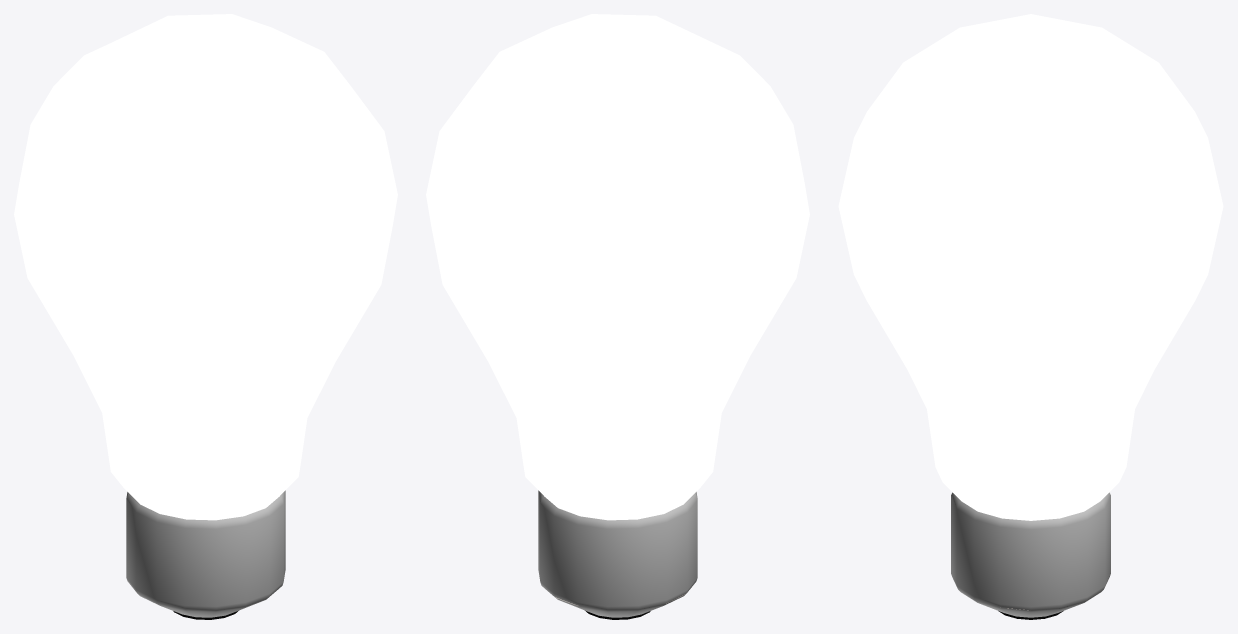
File: lowPolyLightbulb.glb
3 views of the same model, side by side, from view 1: azimuth 30°, elevation 25°; view 2: azimuth 150°, elevation 25°; view 3: azimuth 270°, elevation 25° (orthographic).
Visible parts, largest first — view 1: #LMP0003_Light_Bulb_Low_Poly_#LMP0003_Textures_0; view 2: #LMP0003_Light_Bulb_Low_Poly_#LMP0003_Textures_0; view 3: #LMP0003_Light_Bulb_Low_Poly_#LMP0003_Textures_0.
Part boxes in pixels (x1=…): #LMP0003_Light_Bulb_Low_Poly_#LMP0003_Textures_0: x1=14, y1=14, x2=397, y2=619; #LMP0003_Light_Bulb_Low_Poly_#LMP0003_Textures_0: x1=426, y1=14, x2=809, y2=619; #LMP0003_Light_Bulb_Low_Poly_#LMP0003_Textures_0: x1=838, y1=14, x2=1223, y2=619.
Bounding box in the file's own units: 0.0753 × 0.1256 × 0.0753.
1 material, 1 textured.
